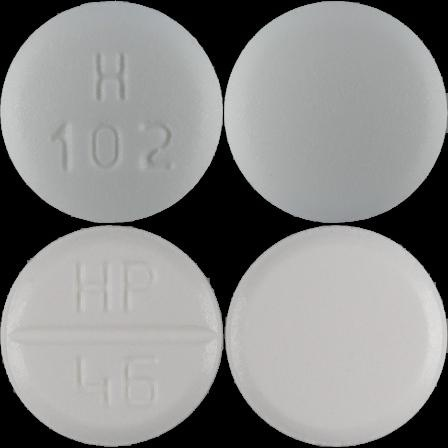10544-133: (0, 0, 224, 224)
